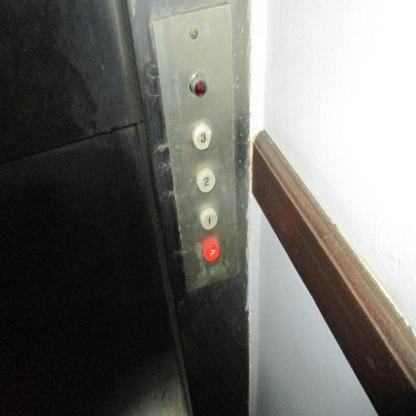1: (198, 206, 218, 230)
2: (195, 167, 216, 193)
3: (191, 120, 213, 151)
indicator: (188, 69, 208, 97)
unknown: (202, 239, 220, 262)
